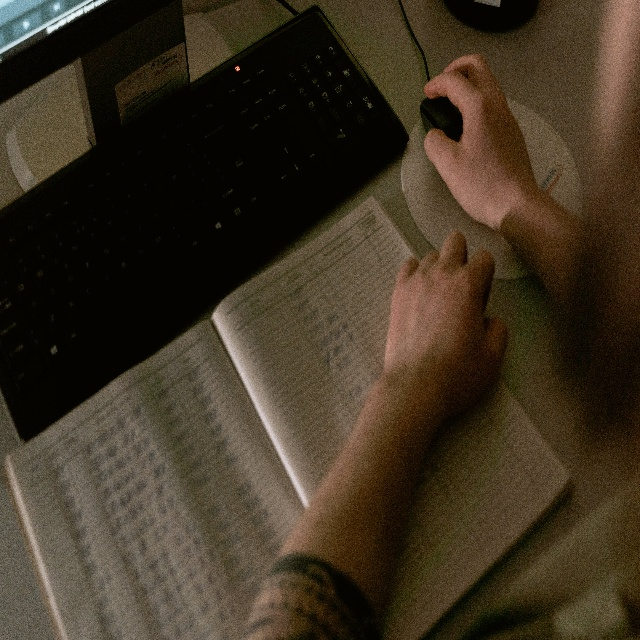Sin_guantes: (385, 226, 509, 410), (423, 44, 531, 235)
